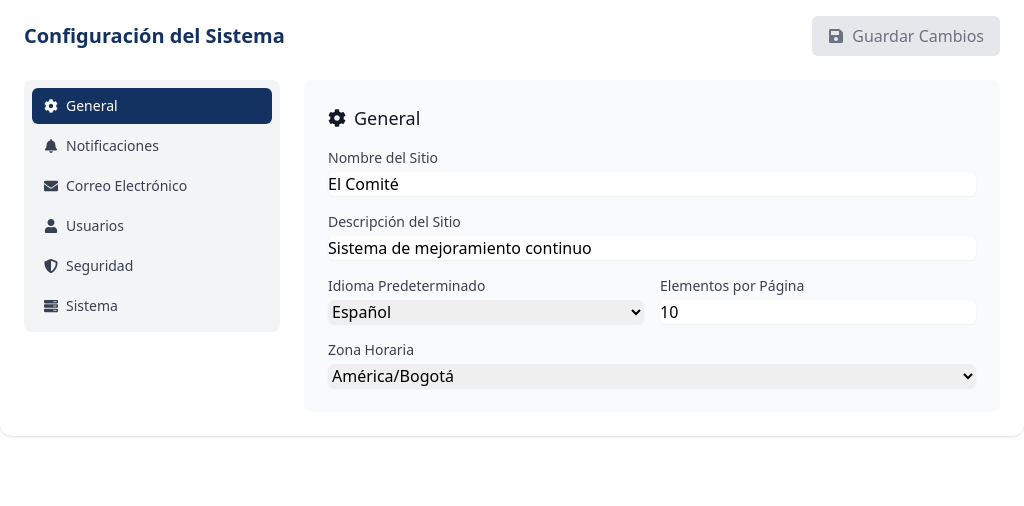
it: ConfigurationManagement › should render Security form when tab is clicked
Click the button "Seguridad". click: point(152, 266)
box: [32,248,272,284]
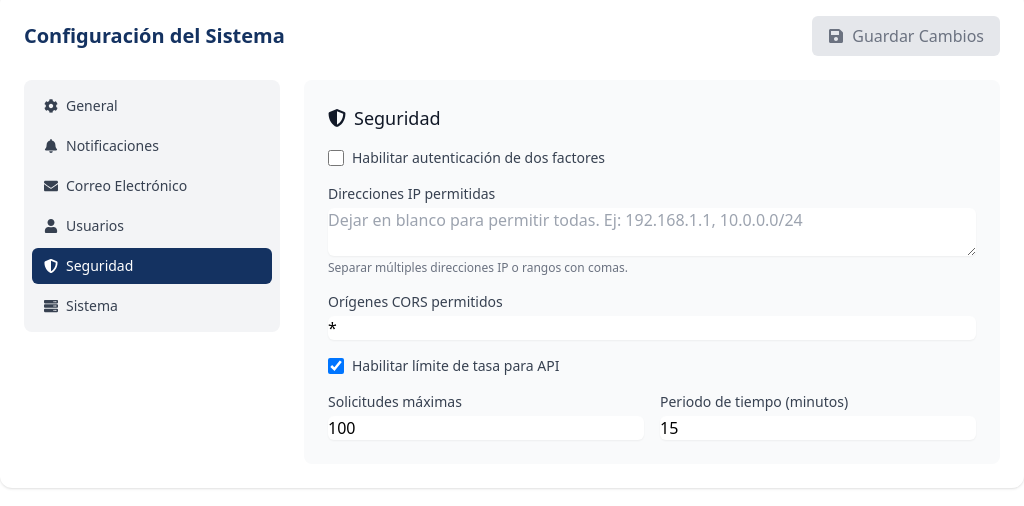
Check: the checkbox labelled "Habilitar autenticación de dos factores" is shown, box [328,150,344,166]
Check: the text box labelled "Direcciones IP permitidas" is shown
Replace the text in the text box labelled "Direcciones IP permitidas" with "192.168.1.1". click: point(652, 232)
box: [328,208,976,256]
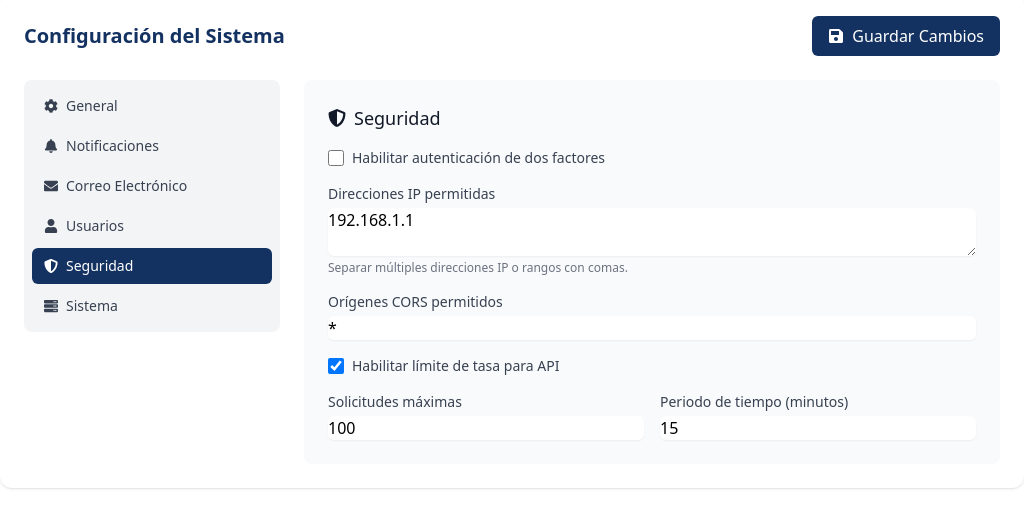
Check: the button "Guardar Cambios" is enabled, box [812,16,1000,56]
